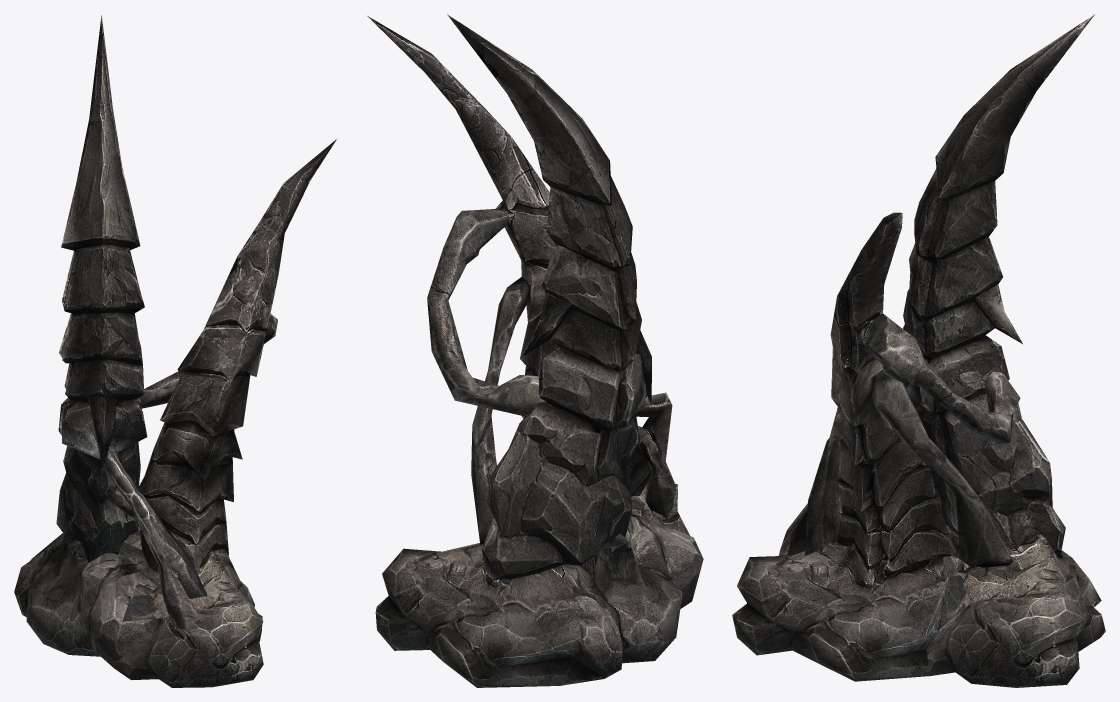
The model's file is x25longjiao03.FBX.
3 renders of one model, left to right at view 1: azimuth 30°, elevation 25°; view 2: azimuth 150°, elevation 25°; view 3: azimuth 270°, elevation 25°, orthographic. The views are drawn at different scales.
Parts seen in each view (by area): view 1: x25jiao01, x25jiao02; view 2: x25jiao01, x25jiao02; view 3: x25jiao01, x25jiao02.
Boxes of the visible parts, x1,y1,x2,y2 form: x25jiao01: (14,138,337,687); x25jiao02: (56,15,147,562); x25jiao01: (367,16,703,687); x25jiao02: (447,14,651,581); x25jiao01: (732,212,1105,687); x25jiao02: (903,14,1094,557).
Size of the model in its own units: 3175 by 6041 by 3200.
